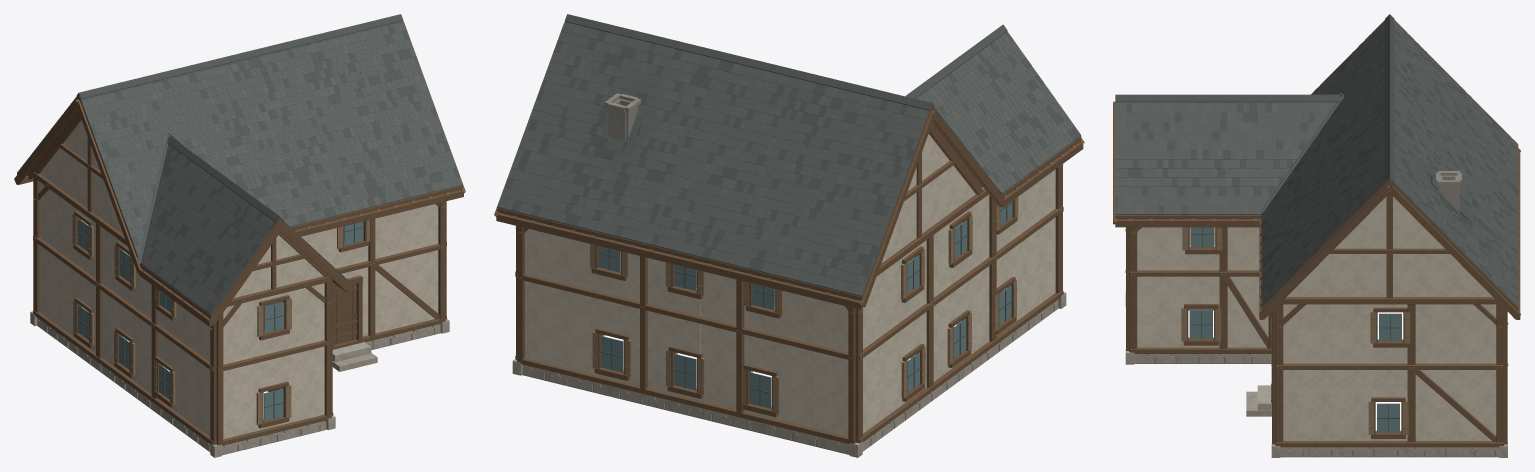
The model's file is farmhouse.glb.
The picture shows the model from 3 angles, left to right: view 1: azimuth 30°, elevation 25°; view 2: azimuth 150°, elevation 25°; view 3: azimuth 270°, elevation 25°; orthographic projection. The views are drawn at different scales.
Parts seen in each view (by area): view 1: Split oak shingle courses, facade_walls, facade_timber, Seasoned shingle cohorts, Exposed shingle butts, Roof edge fascia, Overlapping ridge caps, facade_stone, facade_windows, facade_shutters, Continuous roof deck, facade_doors (+5 smaller); view 2: Split oak shingle courses, facade_walls, facade_timber, Seasoned shingle cohorts, Exposed shingle butts, Roof edge fascia, facade_windows, facade_stone, Overlapping ridge caps, facade_shutters, Continuous roof deck, facade_chimney (+2 smaller); view 3: facade_walls, Split oak shingle courses, facade_timber, Seasoned shingle cohorts, Exposed shingle butts, Roof edge fascia, Overlapping ridge caps, facade_stone, facade_windows, Continuous roof deck, facade_shutters, facade_foundation_core (+3 smaller).
Part boxes in pixels (<box>): Split oak shingle courses: <box>17,21,462,315</box>; facade_walls: <box>39,120,438,439</box>; facade_timber: <box>32,112,446,445</box>; Seasoned shingle cohorts: <box>68,21,462,313</box>; Exposed shingle butts: <box>17,24,460,305</box>; Roof edge fascia: <box>14,22,465,326</box>; Overlapping ridge caps: <box>76,14,403,222</box>; facade_stone: <box>37,318,440,454</box>; facade_windows: <box>77,218,363,420</box>; facade_shutters: <box>72,213,369,424</box>; Continuous roof deck: <box>17,95,462,318</box>; facade_doors: <box>334,283,357,344</box>; Split oak shingle courses: <box>497,22,1081,296</box>; facade_walls: <box>525,134,1055,436</box>; facade_timber: <box>515,125,1063,444</box>; Seasoned shingle cohorts: <box>497,30,1079,296</box>; Exposed shingle butts: <box>505,25,1067,295</box>; Roof edge fascia: <box>494,23,1084,309</box>; facade_windows: <box>598,201,1012,408</box>; facade_stone: <box>522,300,1058,454</box>; Overlapping ridge caps: <box>564,14,1007,110</box>; facade_shutters: <box>589,197,1018,413</box>; Continuous roof deck: <box>497,106,1081,300</box>; facade_chimney: <box>604,93,641,140</box>; facade_walls: <box>1137,196,1496,440</box>; Split oak shingle courses: <box>1115,20,1518,308</box>; facade_timber: <box>1126,183,1507,447</box>; Seasoned shingle cohorts: <box>1115,30,1518,308</box>; Exposed shingle butts: <box>1115,21,1518,302</box>; Roof edge fascia: <box>1113,101,1520,319</box>; Overlapping ridge caps: <box>1115,14,1394,182</box>; facade_stone: <box>1134,354,1499,456</box>; facade_windows: <box>1189,227,1401,432</box>; Continuous roof deck: <box>1115,104,1518,311</box>; facade_shutters: <box>1181,227,1410,434</box>; facade_foundation_core: <box>1134,308,1498,457</box>.
Size of the model in its own units: 12.06 by 9.72 by 12.55.
12 materials, 10 textured.
